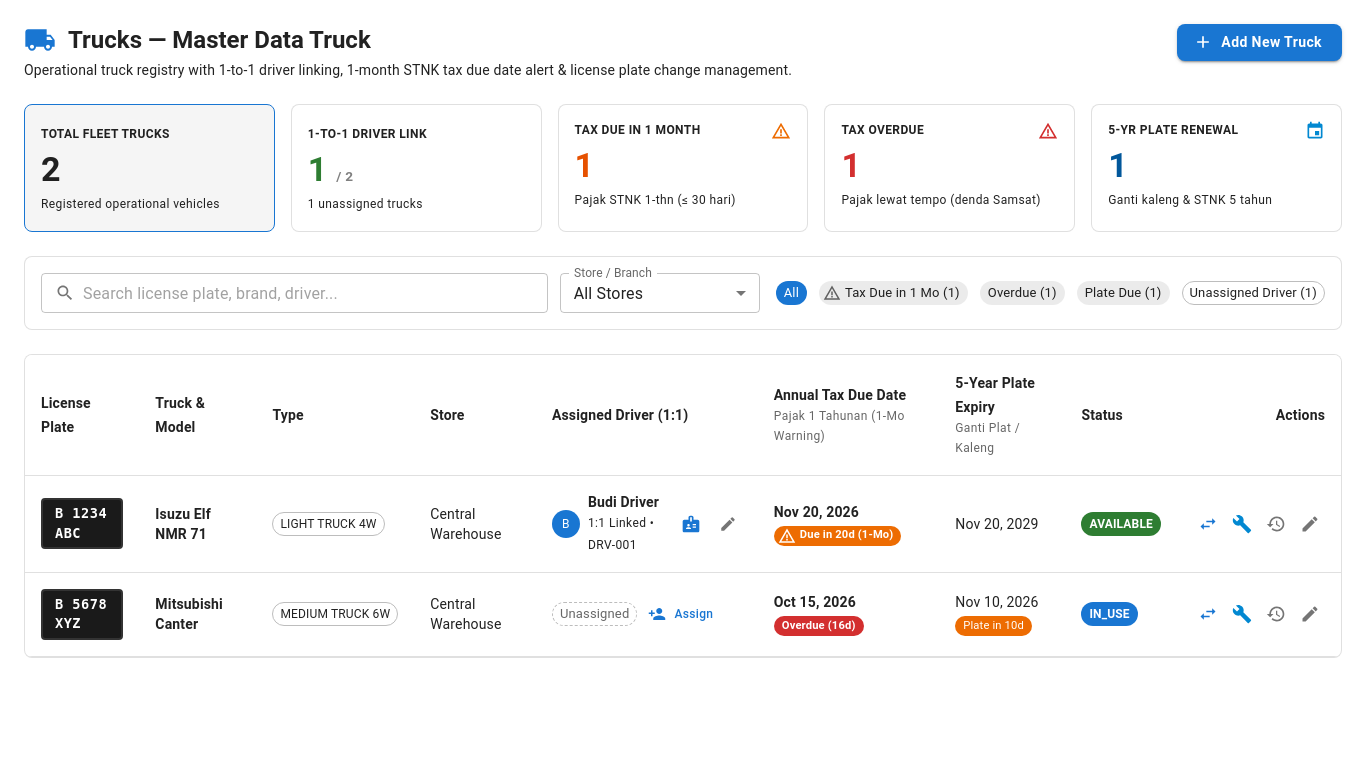
Test: TruckListPage - Master Data Truck › opens Driver License (SIM) dialog and displays driver's driving license
# Click SIM badge button on driver Budi Driver
Step 1. Click the button named "Driver's License (SIM) & Expiry Notifications" → [691, 524], box x1=676 y1=509 x2=706 y2=539
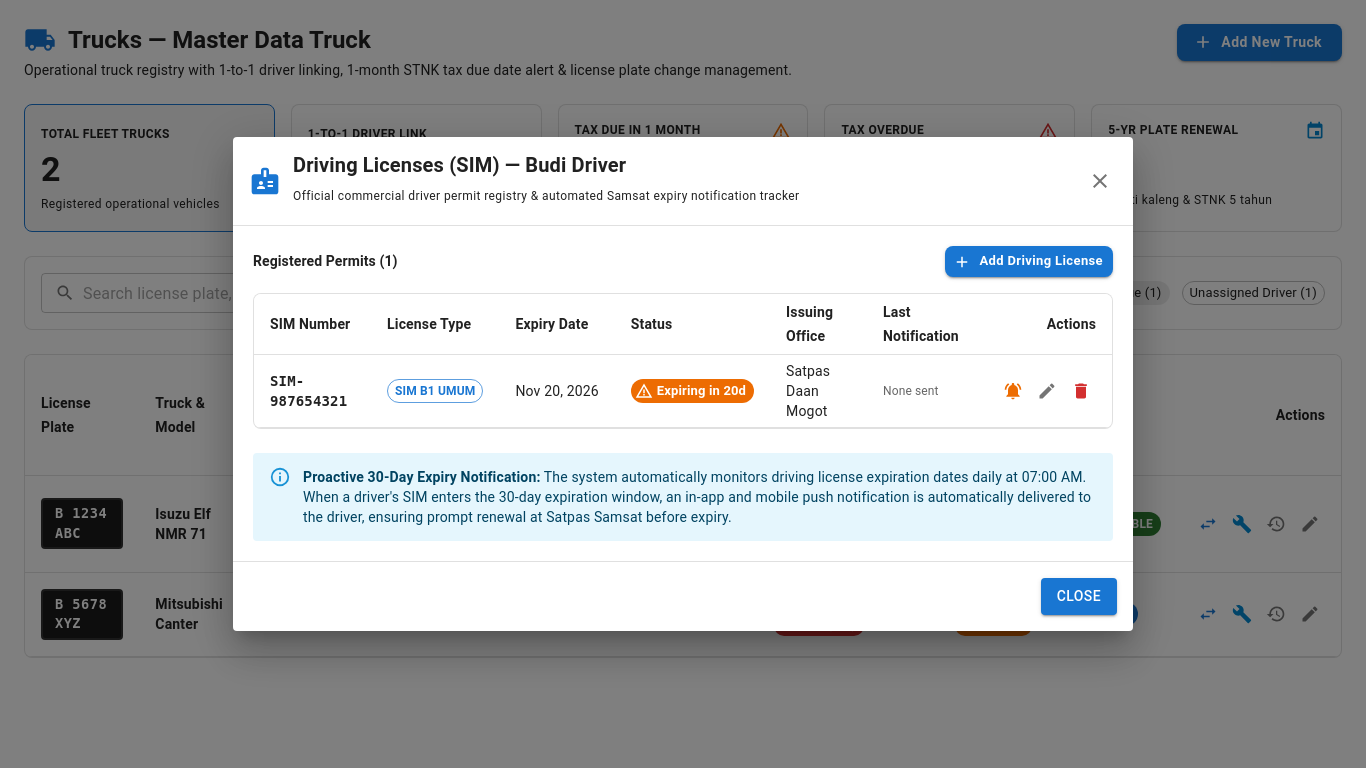
Expected: the heading "Driving Licenses (SIM) — Budi Driver" is shown, x1=293 y1=153 x2=626 y2=177
Expected: the text "SIM-987654321" is shown, x1=254 y1=355 x2=371 y2=428
Expected: the text "SIM B1 UMUM" is shown, x1=388 y1=382 x2=482 y2=400
